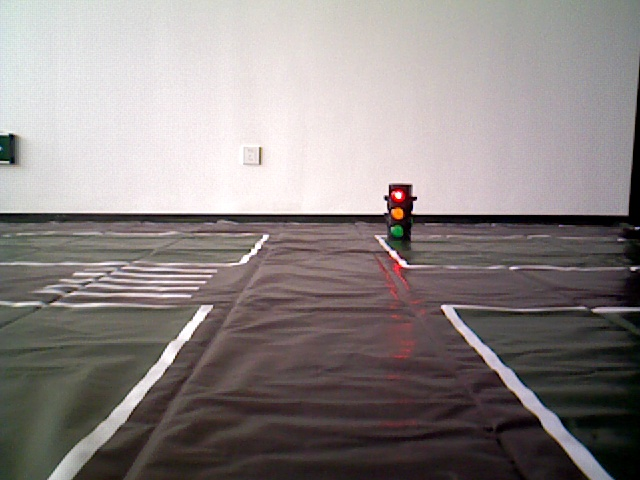red: (383, 185, 409, 240)
